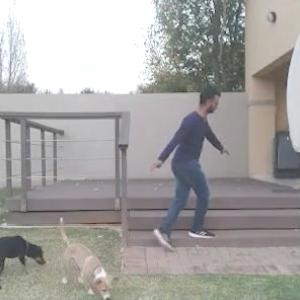land: (111, 78, 235, 258)
